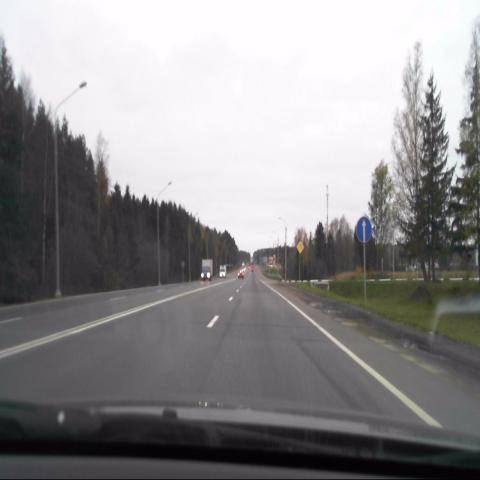4_1_1: (356, 216, 372, 244)
